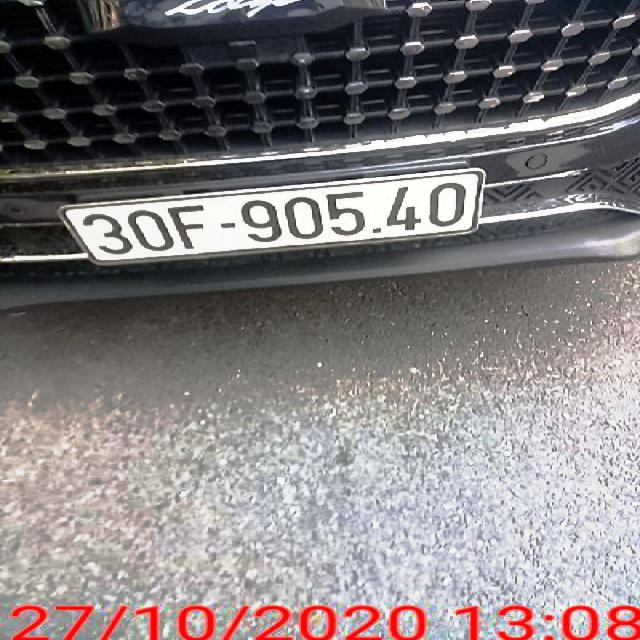license_plate: (59, 172, 486, 264)
